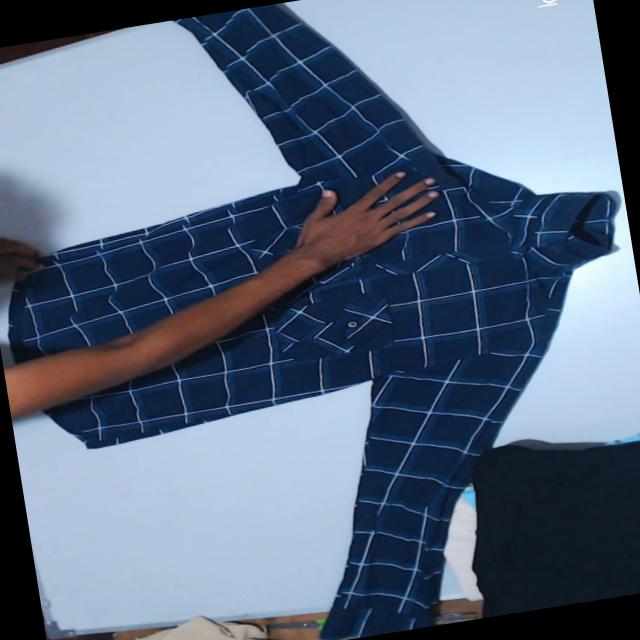new-garment: (9, 3, 614, 636)
